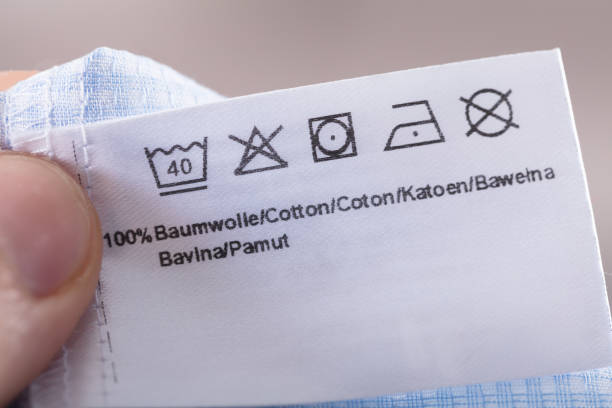ER_iron_low_temp: (378, 94, 451, 161)
ER_no_bleach: (223, 120, 295, 179)
ER_no_dry_clean: (455, 84, 526, 144)
ER_tumble_dry_low_heat: (305, 108, 364, 168)
ER_wash_40_mild: (135, 131, 217, 200)
